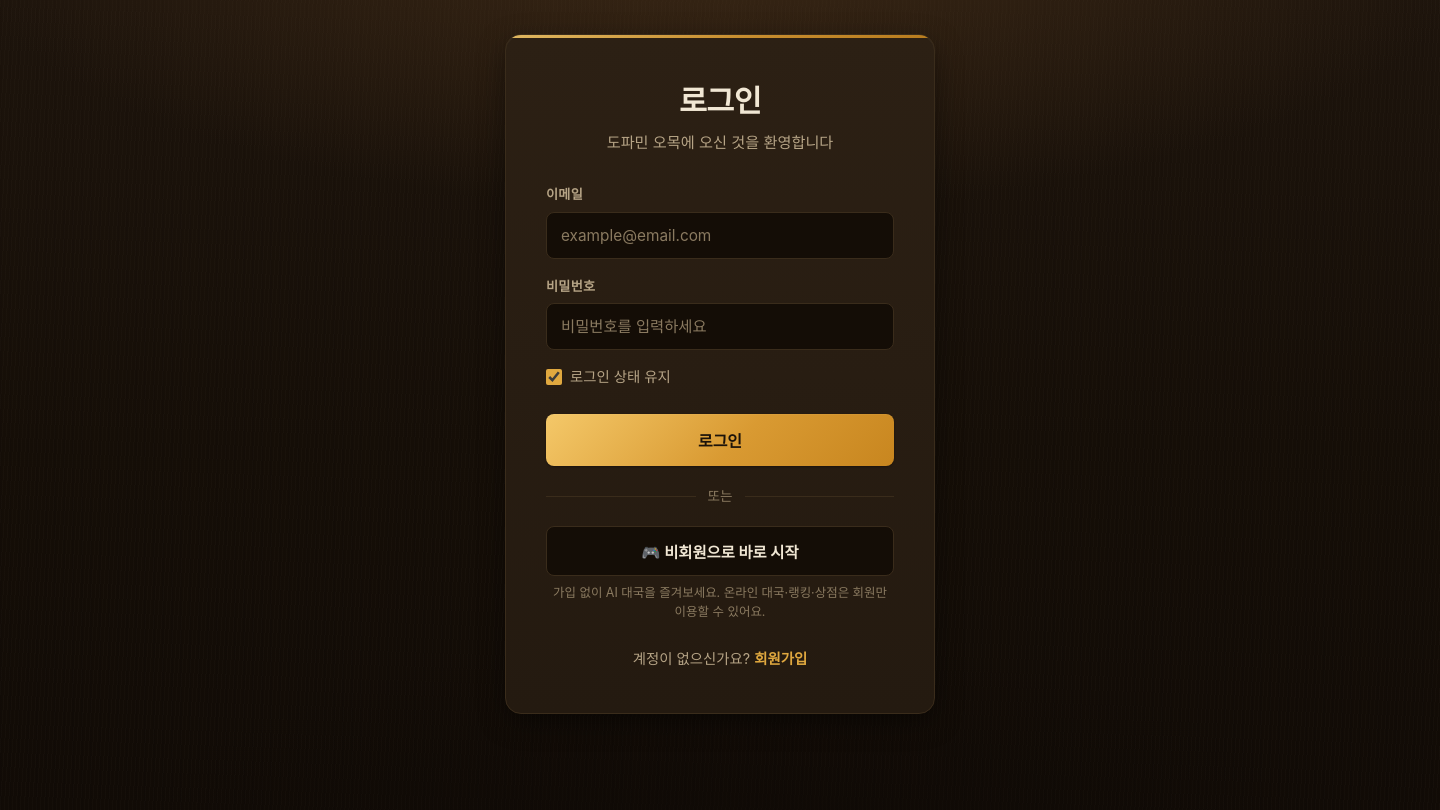
LoginPage - 이메일 로그인 › 그 외 에러(예: 서버 오류)는 서버 메시지가 없으면 기본 문구를 보여준다
The image size is (1440, 810).
Type "test@test.com" into the field labelled "이메일" at (720, 235), box left=546, top=212, right=894, bottom=259
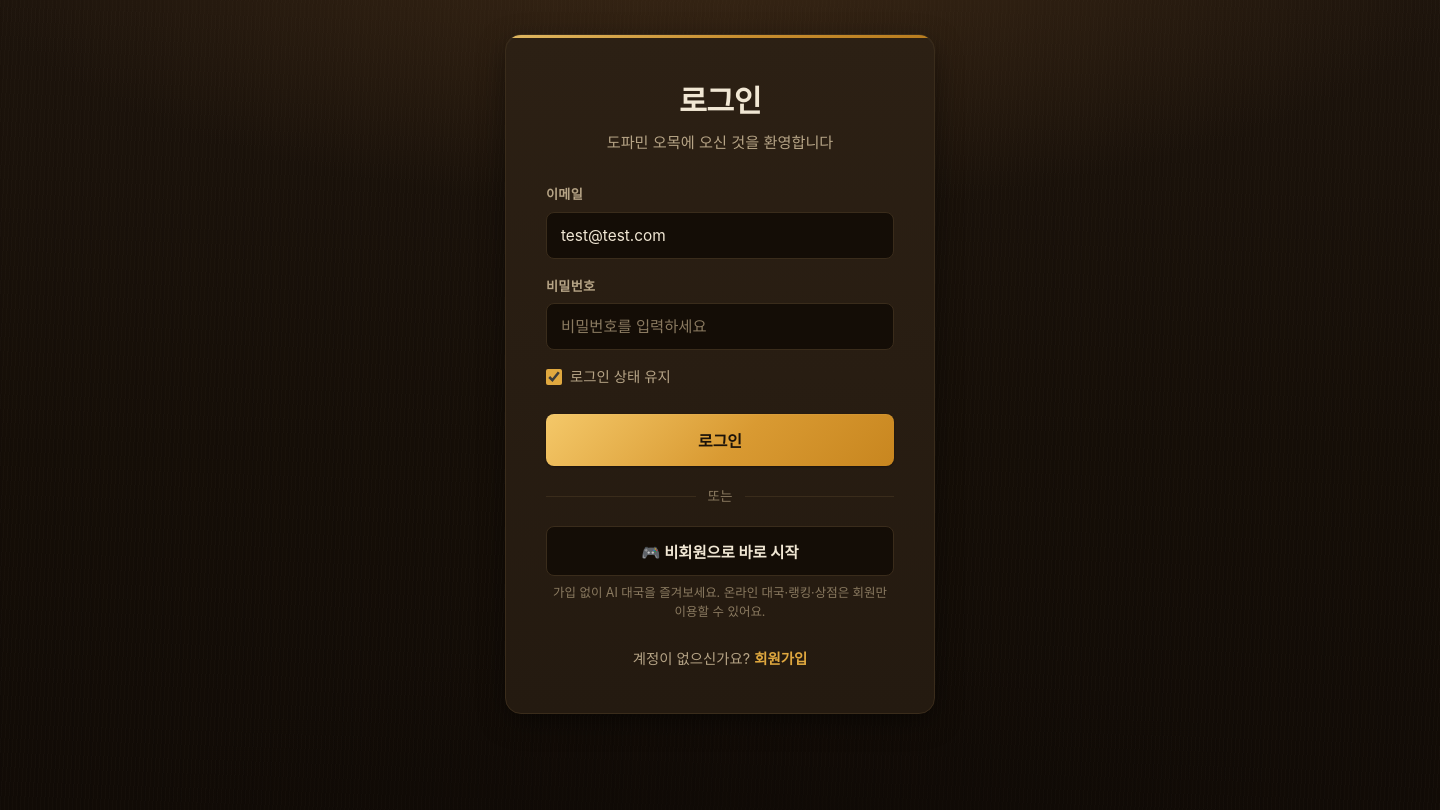
Type "password123" into the password field labelled "비밀번호" at (720, 327), box left=546, top=303, right=894, bottom=350
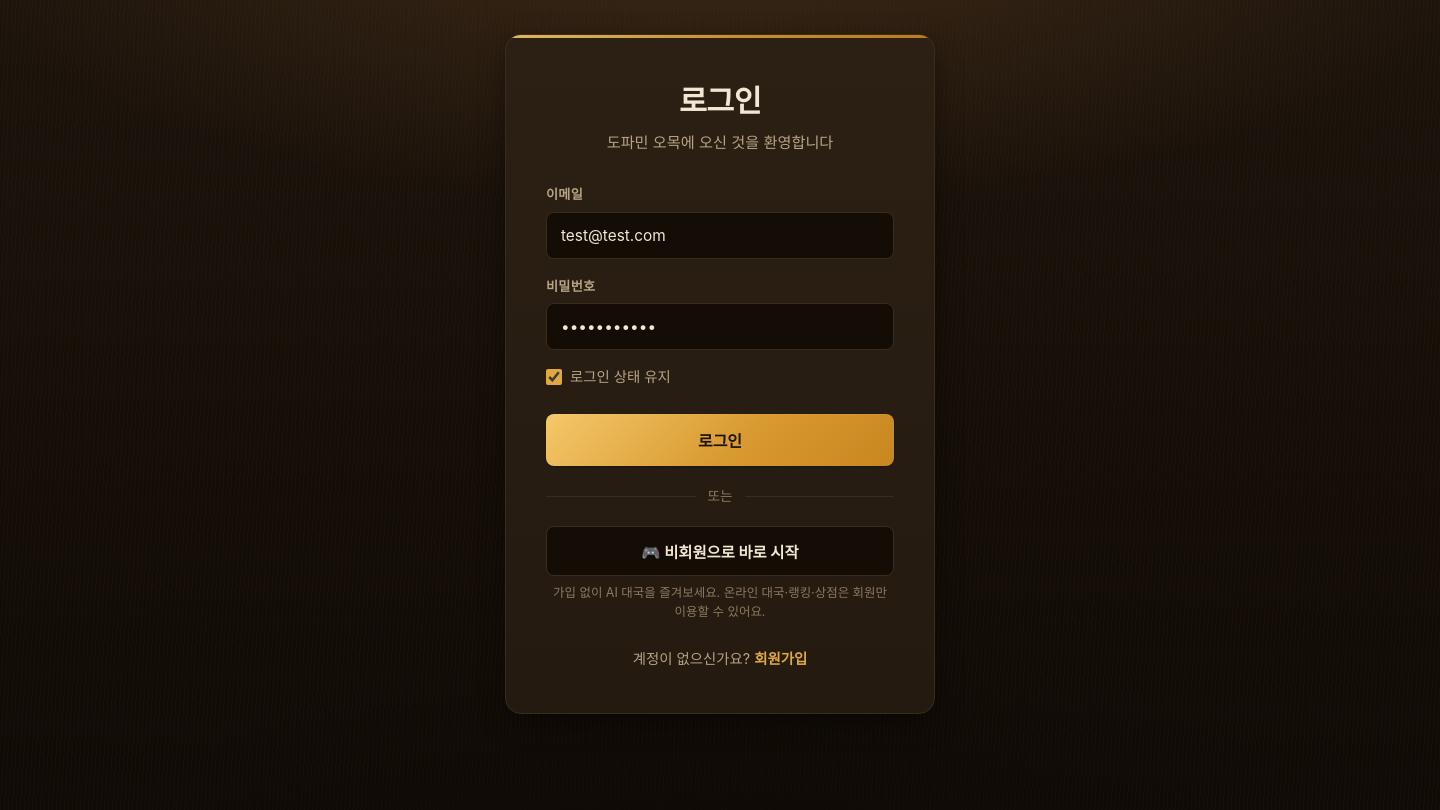
Click the button "로그인" at (720, 440), box left=546, top=414, right=894, bottom=466
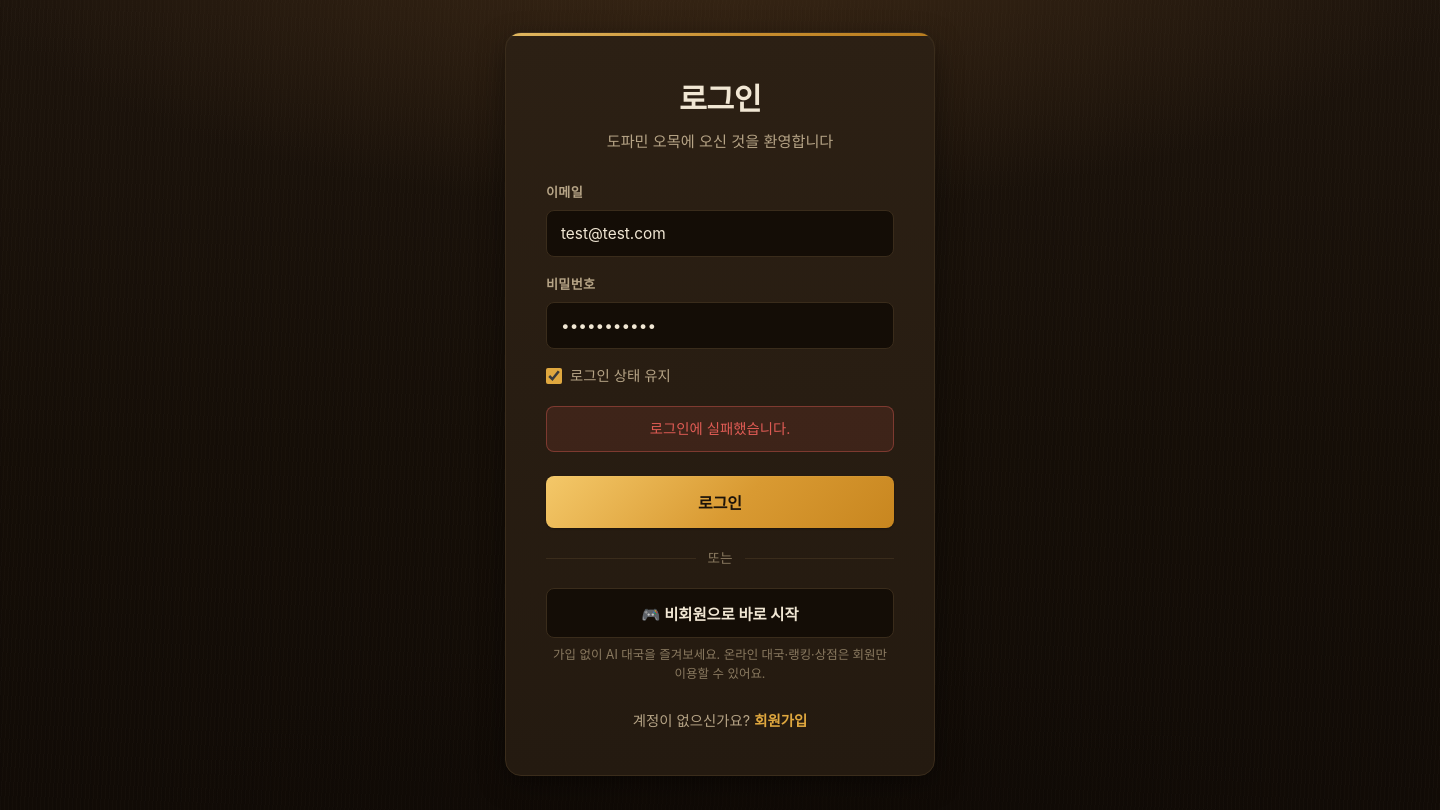
Check: the text "로그인에 실패했습니다." is shown, box left=546, top=406, right=894, bottom=452
